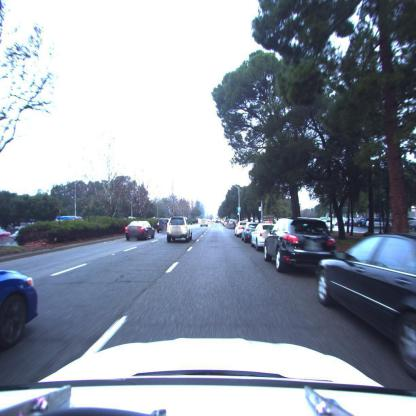car: (316, 234, 416, 388), (266, 218, 337, 273), (0, 262, 42, 350), (167, 218, 192, 243), (126, 221, 155, 242), (251, 224, 274, 250), (244, 223, 258, 241), (156, 219, 169, 233), (235, 223, 246, 238), (199, 218, 209, 230), (225, 219, 236, 228)
